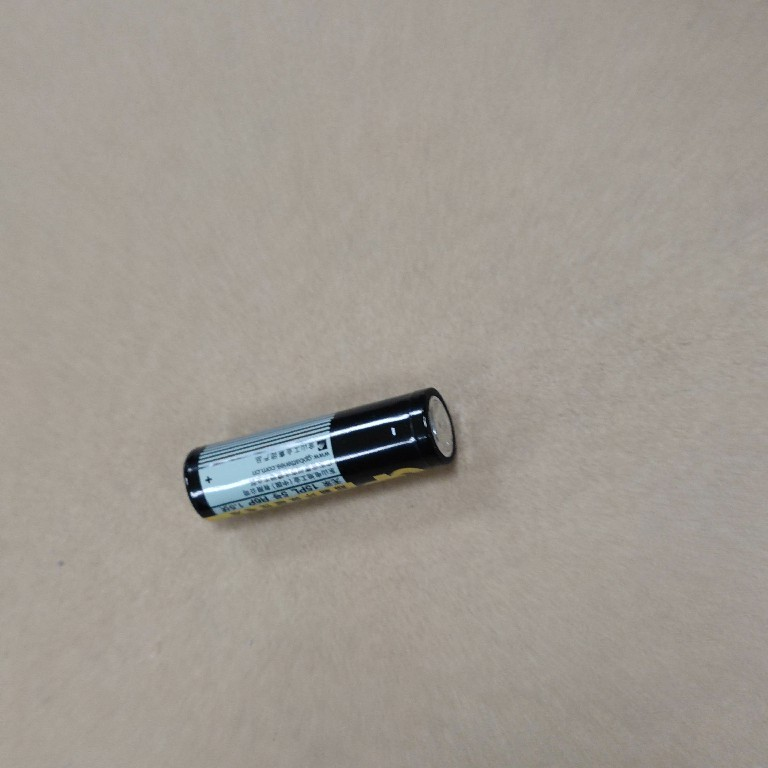charge: (177, 383, 460, 524)
